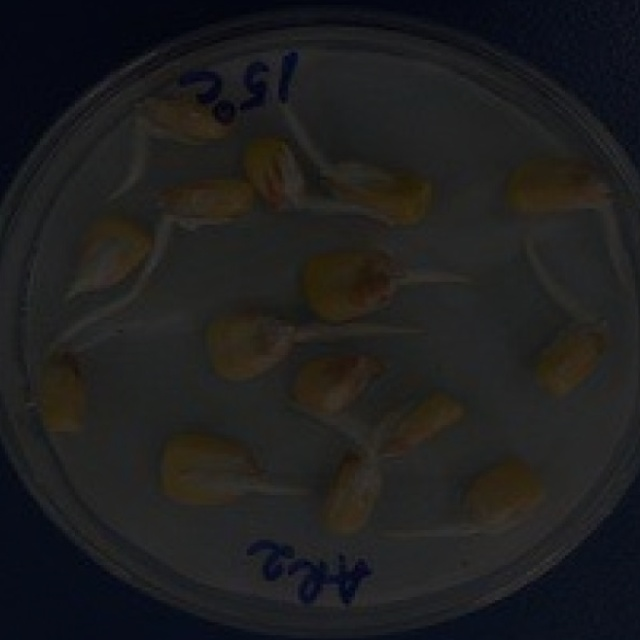Zea mays: (152, 422, 267, 511), (454, 452, 553, 536), (324, 154, 438, 225), (301, 242, 403, 321), (498, 150, 621, 214), (200, 302, 297, 382), (67, 209, 155, 293), (531, 314, 620, 397), (290, 344, 385, 417), (315, 446, 385, 541), (383, 386, 475, 456), (150, 170, 259, 229), (33, 346, 96, 433), (242, 129, 310, 206), (140, 89, 240, 135)
